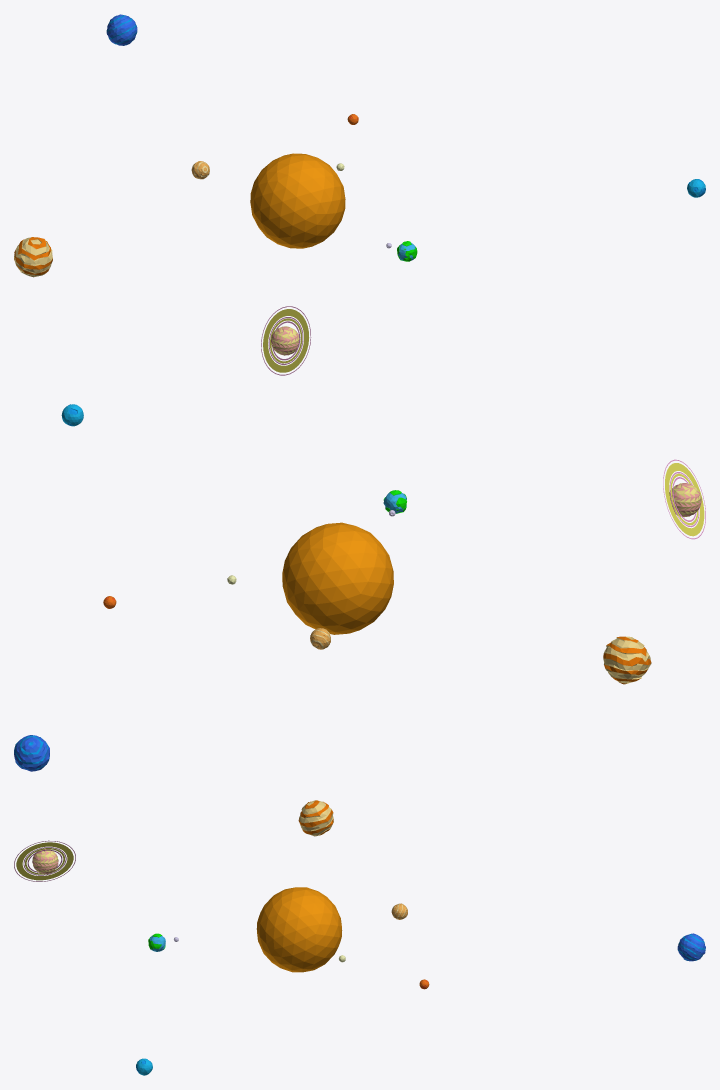
The model's file is space-origin.glb.
The picture shows the model from 3 angles, top to bottom: view 1: azimuth 30°, elevation 25°; view 2: azimuth 150°, elevation 25°; view 3: azimuth 270°, elevation 25°; orthographic projection. The views are drawn at different scales.
Visible parts, largest first — view 1: Sun_Icosphere.012, SaturnsRings_Circle, Jupiter_Icosphere.006, Neptune_Icosphere.010, Saturn_Icosphere.007; view 2: Sun_Icosphere.012, Jupiter_Icosphere.006, SaturnsRings_Circle, Neptune_Icosphere.010, Saturn_Icosphere.007; view 3: Sun_Icosphere.012, SaturnsRings_Circle, Jupiter_Icosphere.006, Neptune_Icosphere.010, Saturn_Icosphere.007.
Boxes of the visible parts, box(x1,y1,x2,y2) form: Sun_Icosphere.012: box(250, 153, 345, 248); SaturnsRings_Circle: box(261, 306, 311, 375); Jupiter_Icosphere.006: box(14, 237, 52, 277); Neptune_Icosphere.010: box(106, 14, 137, 45); Saturn_Icosphere.007: box(271, 326, 300, 355); Sun_Icosphere.012: box(282, 522, 393, 634); Jupiter_Icosphere.006: box(603, 636, 651, 684); SaturnsRings_Circle: box(663, 459, 705, 539); Neptune_Icosphere.010: box(14, 735, 49, 771); Saturn_Icosphere.007: box(669, 483, 701, 517); Sun_Icosphere.012: box(256, 887, 342, 972); SaturnsRings_Circle: box(14, 840, 75, 881); Jupiter_Icosphere.006: box(298, 800, 333, 836); Neptune_Icosphere.010: box(677, 933, 705, 961); Saturn_Icosphere.007: box(32, 849, 58, 874).
Bounding box in the file's own units: 67.66 × 9.35 × 76.06.
